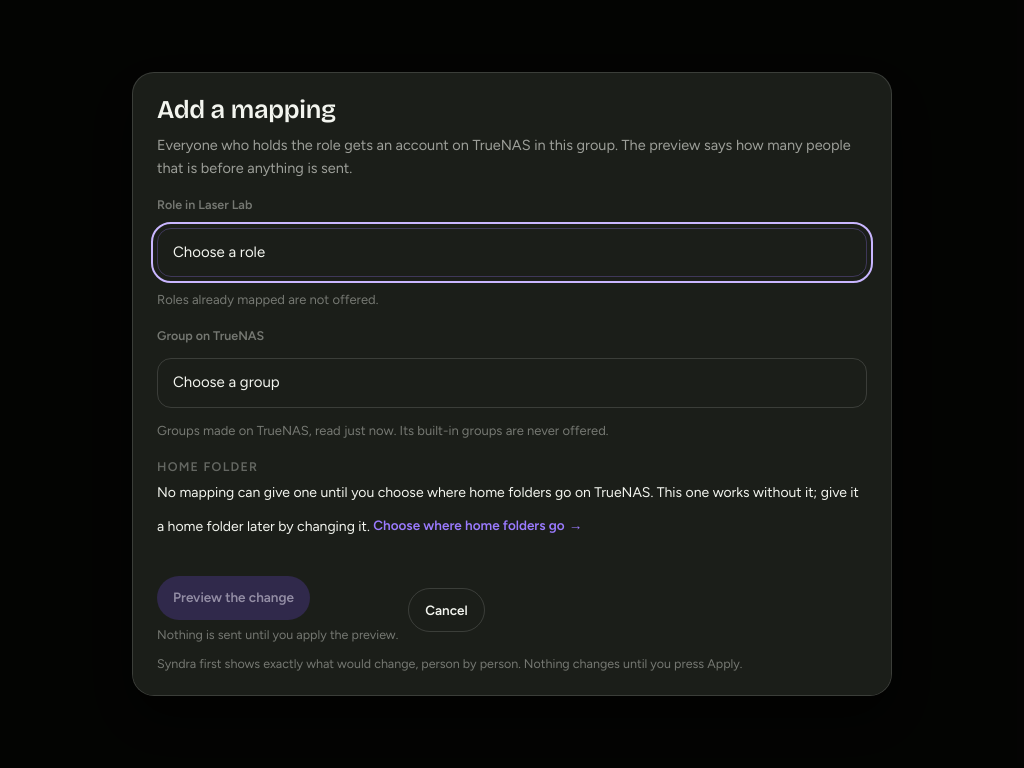
Test: a mapping on a role nobody holds › does not tell the operator there is nothing to apply
Step 1. Select "Trained operator" in the dropdown labelled "Role in Laser Lab" → (512, 252), box [157, 228, 867, 277]
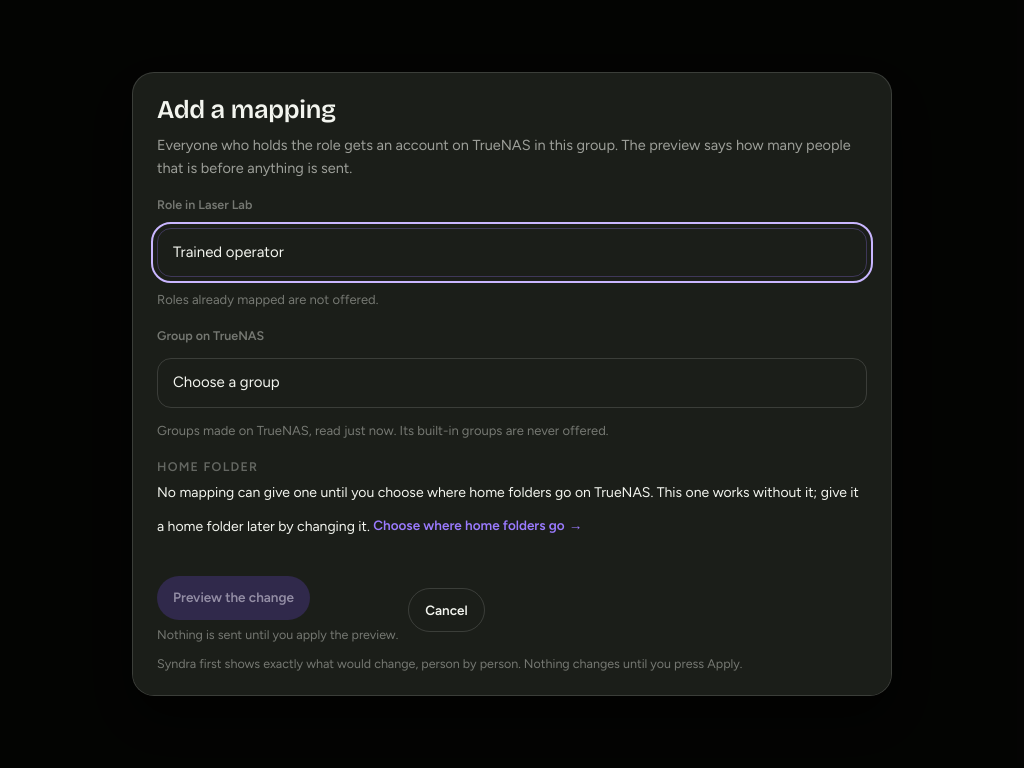
Step 2. Select "makers" in the dropdown labelled "Group on TrueNAS" → (512, 383), box [157, 358, 867, 408]
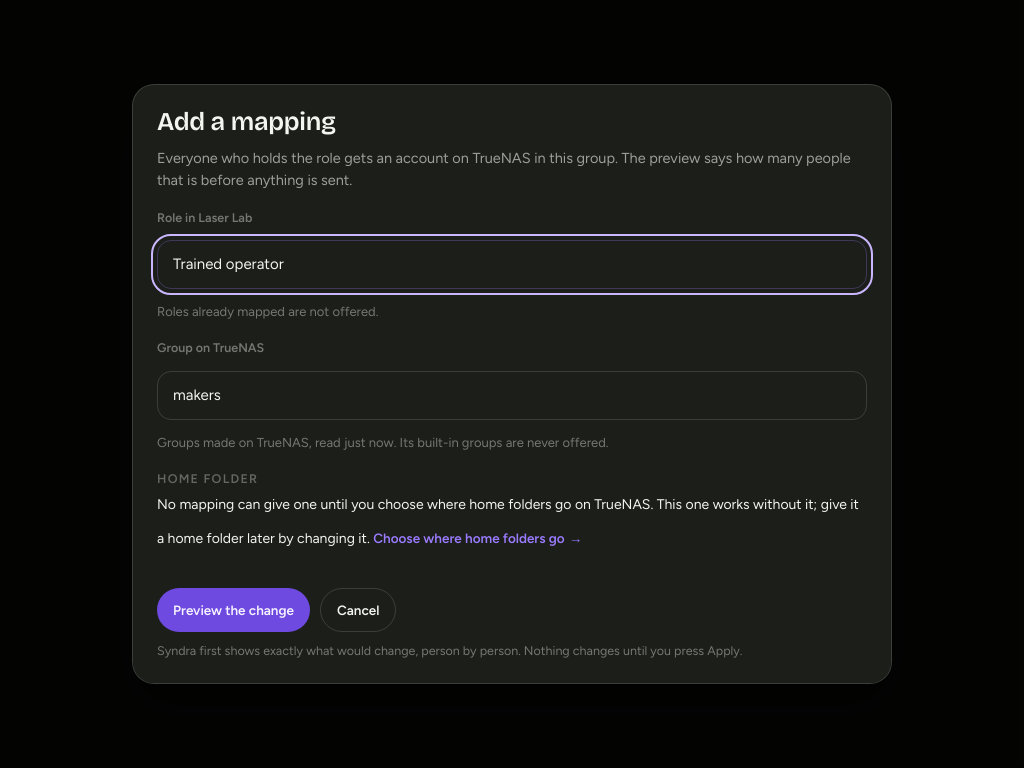
Step 3. Click the button "Preview the change" → (234, 610), box [157, 588, 310, 632]
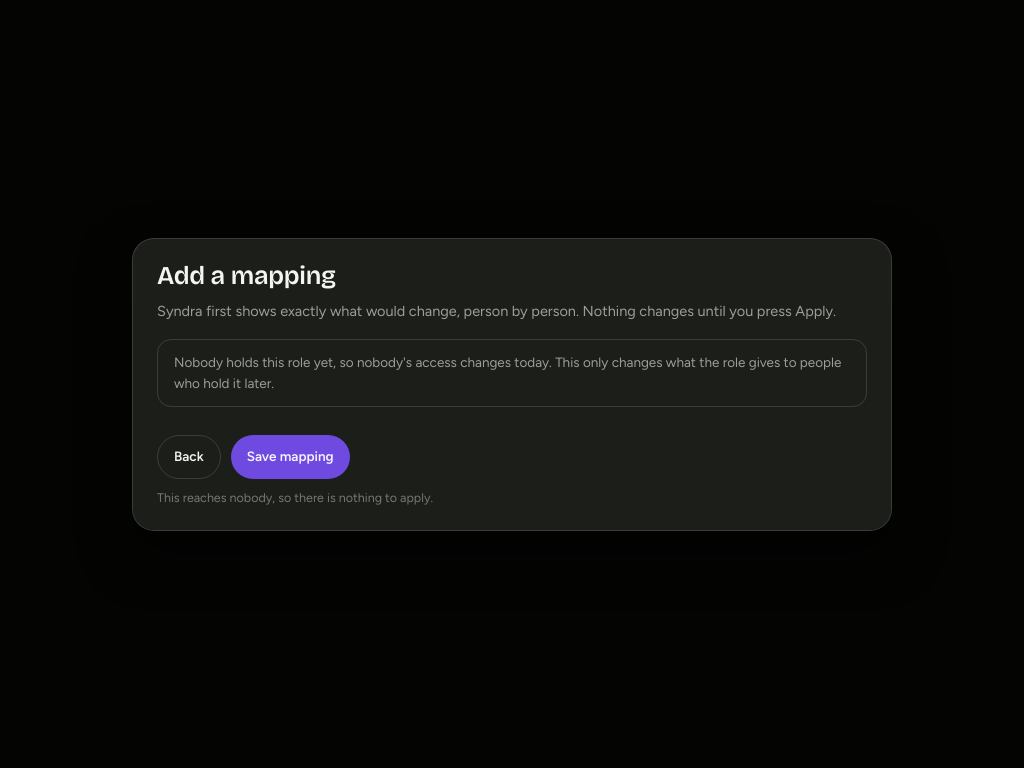
Expected: the button "Save mapping" is shown, [231, 434, 350, 478]
